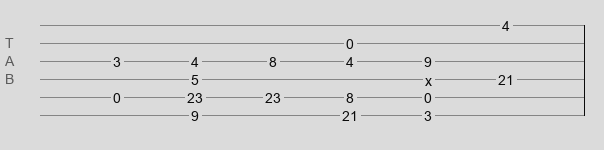0: (113, 90, 121, 100), (346, 36, 354, 46), (424, 90, 432, 100)
21: (342, 108, 358, 118), (498, 72, 514, 82)
23: (187, 90, 203, 100), (265, 90, 281, 100)
3: (113, 54, 121, 64), (424, 108, 432, 118)
4: (191, 54, 199, 64), (346, 54, 354, 64), (502, 18, 510, 28)
5: (191, 72, 199, 82)
8: (269, 54, 277, 64), (346, 90, 354, 100)
9: (191, 108, 199, 118), (424, 54, 432, 64)
x: (425, 73, 432, 81)
